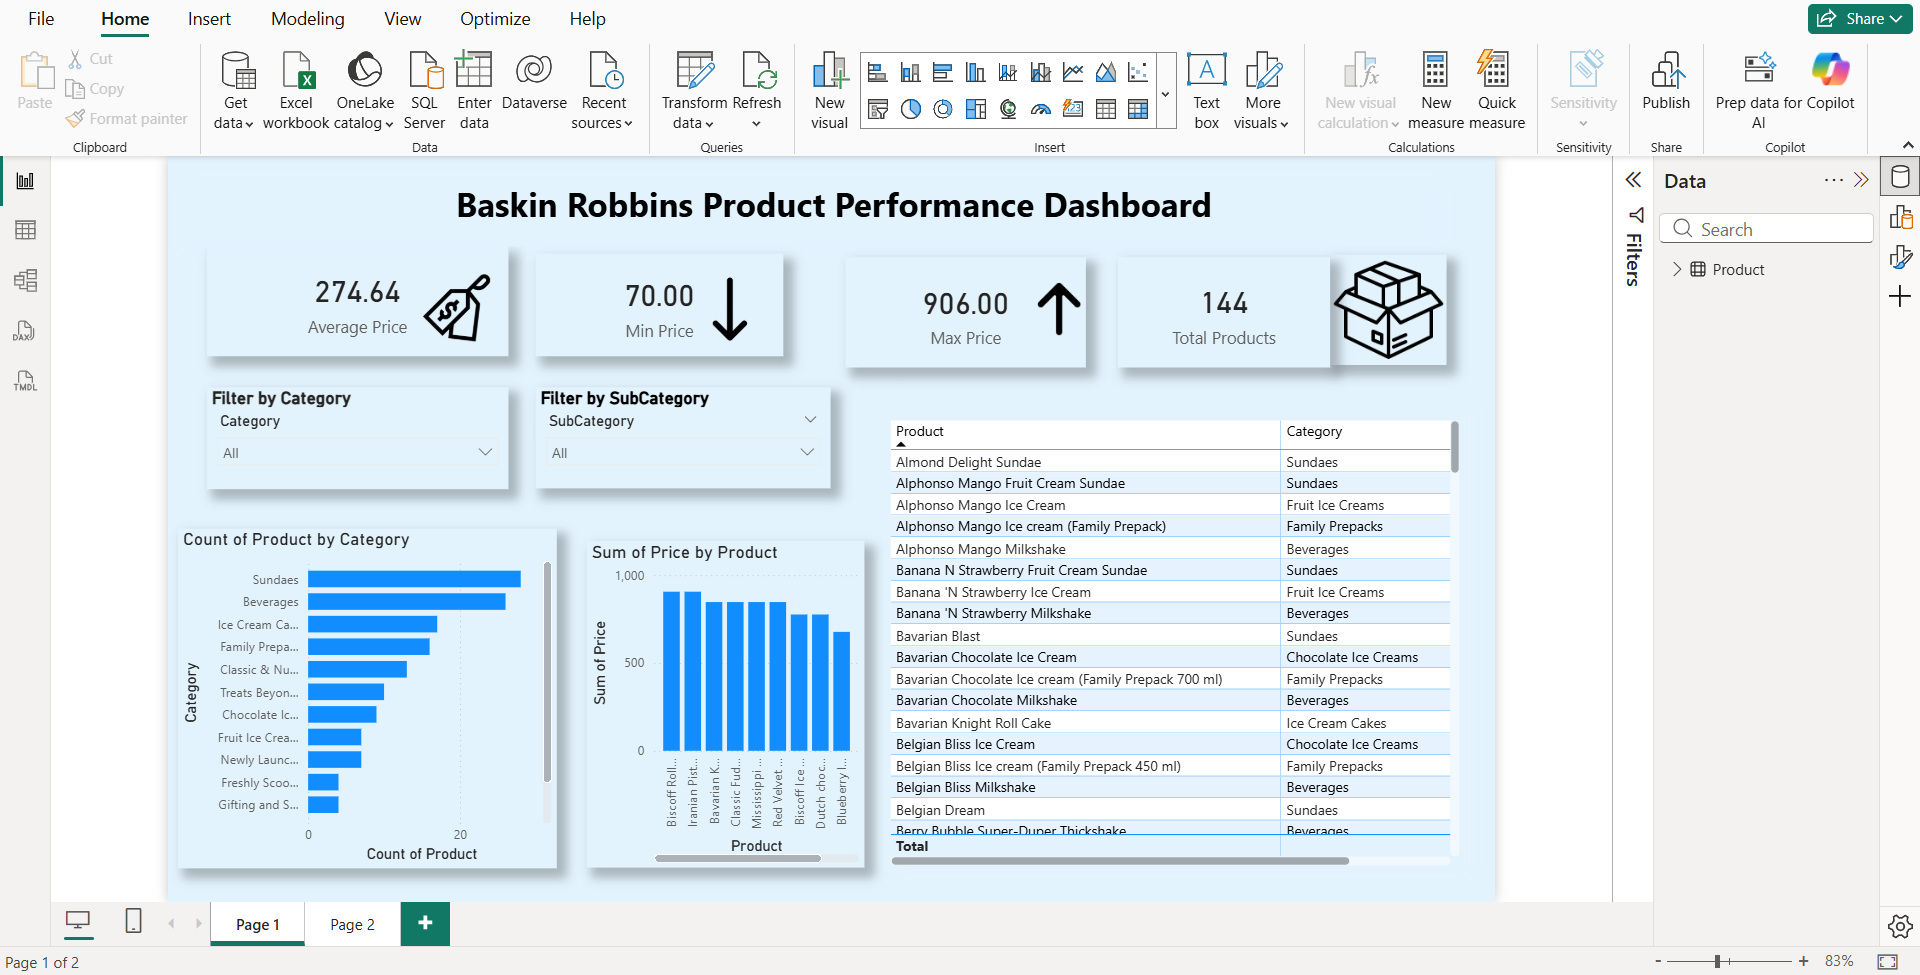

The page's visual inventory and layout, read from the dashboard file:
{"tool":"powerbi","page":{"name":"Page 1","canvas":[1280,720],"ordinal":0},"visuals":[{"type":"card","fields":{"Values":["Product.Average Price"]},"box":[37.5,86.6,291.4,106.8],"z":1000},{"type":"card","fields":{"Values":["Product.Min Price"]},"box":[354.9,93.8,239.5,99.6],"z":2000},{"type":"clusteredBarChart","fields":{"Category":["Product.Category"],"Y":["CountNonNull(Product.Product)"]},"box":[9.8,359.5,365.6,327.7],"z":3000},{"type":"tableEx","title":"Product Details","fields":{"Values":["Product.Product","Product.Category","Sum(Product.Price)"]},"box":[708.4,240.9,555.5,460.2],"z":4000},{"type":"textbox","box":[10.1,18.8,1213.4,67.8],"z":5000},{"type":"image","box":[246.7,106.8,64.9,80.8],"z":6000},{"type":"image","box":[509.3,109.6,66.4,76.5],"z":7000},{"type":"card","fields":{"Values":["Product.Max Price"]},"box":[653.6,98.1,232.3,106.8],"z":8000},{"type":"image","box":[835.4,98.1,50.5,99.6],"z":9000},{"type":"image","box":[1122,95.3,112.2,106.2],"z":10000},{"type":"slicer","title":"Filter by Category","fields":{"Values":["Product.Category"]},"box":[37.5,223.6,291.4,98.1],"z":11000},{"type":"slicer","title":"Filter by SubCategory","fields":{"Values":["Product.SubCategory"]},"box":[354.7,223.2,284.7,97.7],"z":12000},{"type":"clusteredColumnChart","fields":{"Category":["Product.Product"],"Y":["Sum(Product.Price)"]},"box":[404.8,371.7,267.8,315.5],"z":13000},{"type":"card","fields":{"Values":["Product.Total Products"]},"box":[916.9,97.7,205.1,106.2],"z":13001}]}

Visuals, with their boxes on the page's 1280x720 design canvas (x1, y1, x2, y2). These are canvas units, not pixel positions in the 1920x975 screenshot, which may show the page scaled, cropped or inside an application window:
card - Product.Average Price: {"x1": 38, "y1": 87, "x2": 329, "y2": 193}
card - Product.Min Price: {"x1": 355, "y1": 94, "x2": 594, "y2": 193}
clusteredBarChart - Product.Category x CountNonNull(Product.Product): {"x1": 10, "y1": 360, "x2": 375, "y2": 687}
"Product Details" tableEx: {"x1": 708, "y1": 241, "x2": 1264, "y2": 701}
textbox: {"x1": 10, "y1": 19, "x2": 1224, "y2": 87}
image: {"x1": 247, "y1": 107, "x2": 312, "y2": 188}
image: {"x1": 509, "y1": 110, "x2": 576, "y2": 186}
card - Product.Max Price: {"x1": 654, "y1": 98, "x2": 886, "y2": 205}
image: {"x1": 835, "y1": 98, "x2": 886, "y2": 198}
image: {"x1": 1122, "y1": 95, "x2": 1234, "y2": 202}
"Filter by Category" slicer: {"x1": 38, "y1": 224, "x2": 329, "y2": 322}
"Filter by SubCategory" slicer: {"x1": 355, "y1": 223, "x2": 639, "y2": 321}
clusteredColumnChart - Product.Product x Sum(Product.Price): {"x1": 405, "y1": 372, "x2": 673, "y2": 687}
card - Product.Total Products: {"x1": 917, "y1": 98, "x2": 1122, "y2": 204}
